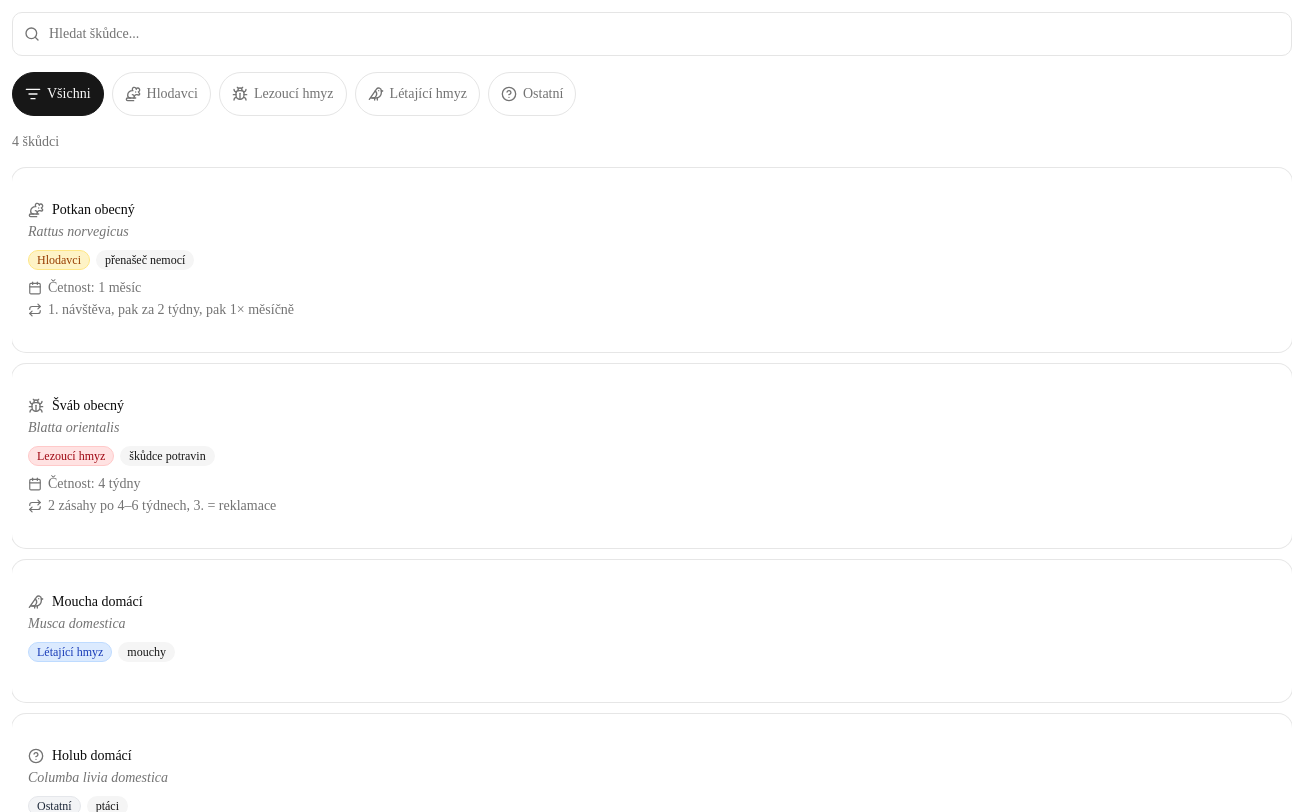
it: SkudciList › filters by typ hlodavec
The width and height of the screenshot is (1304, 812).
Click the button "Hlodavci": (161, 94) [112, 72, 211, 116]
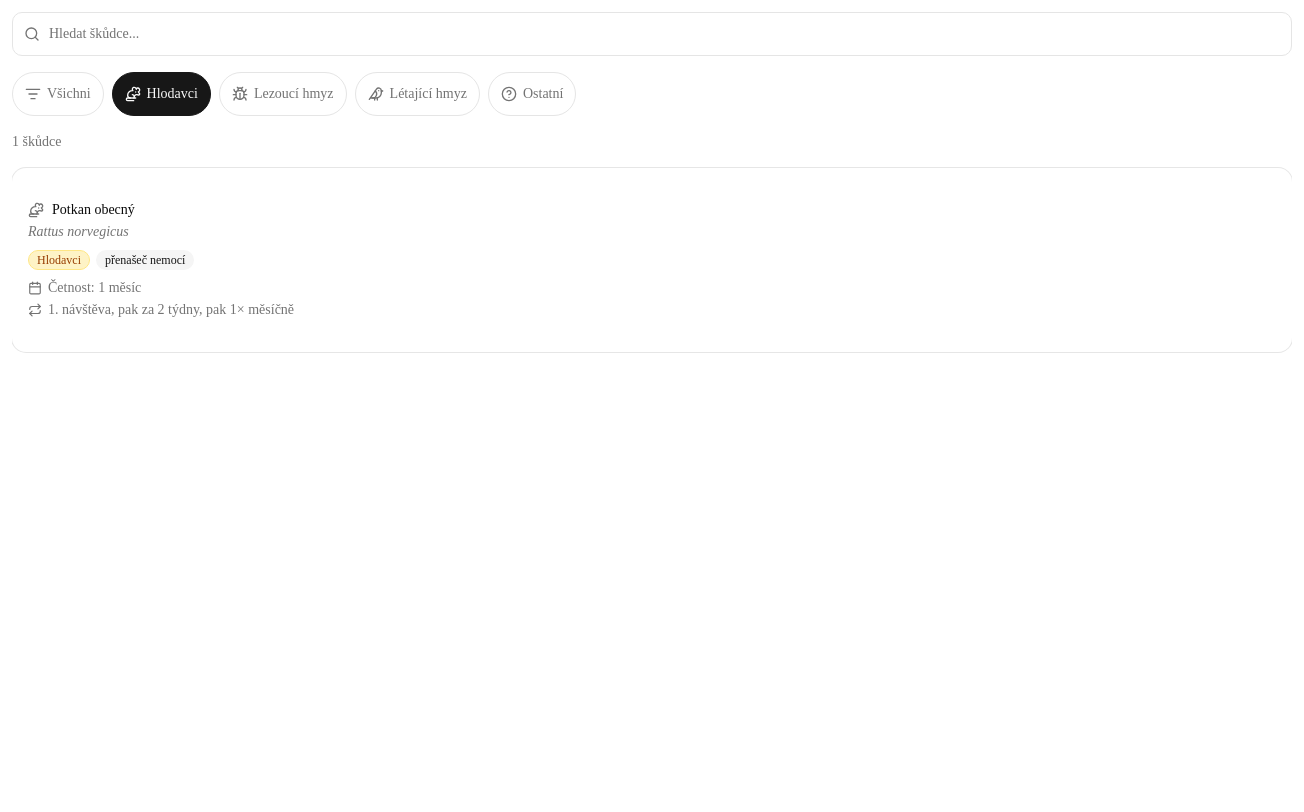
Check: the text "Šváb obecný" is gone
Check: the text "Moucha domácí" is gone
Check: the text "Holub domácí" is gone
